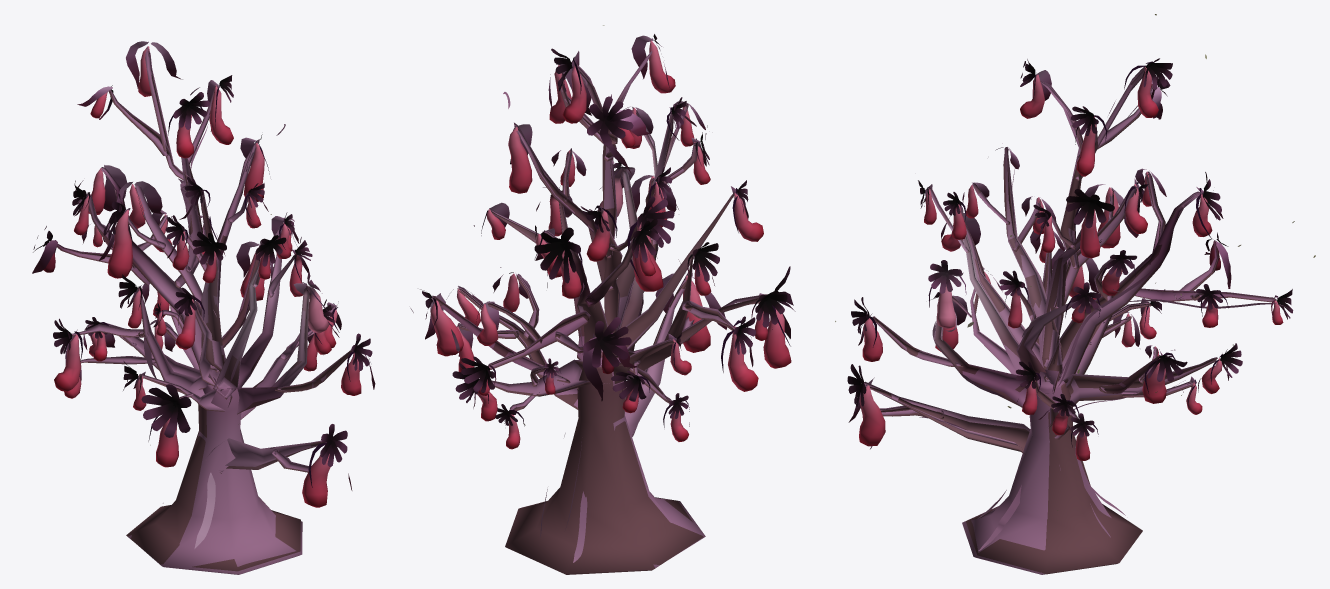
Rendered from treetest.glb.
3 renders of one model, left to right at view 1: azimuth 30°, elevation 25°; view 2: azimuth 150°, elevation 25°; view 3: azimuth 270°, elevation 25°, orthographic. The views are drawn at different scales.
Parts seen in each view (by area): view 1: LifeTree; view 2: LifeTree; view 3: LifeTree.
Part boxes in pixels (box(x1,y1,x2,y2)): LifeTree: box(32, 41, 375, 574); LifeTree: box(410, 25, 795, 574); LifeTree: box(835, 14, 1315, 574).
Size of the model in its own units: 10.03 by 16.86 by 14.76.
